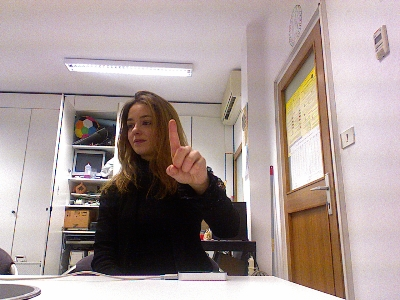食指: (165, 118, 208, 186)
